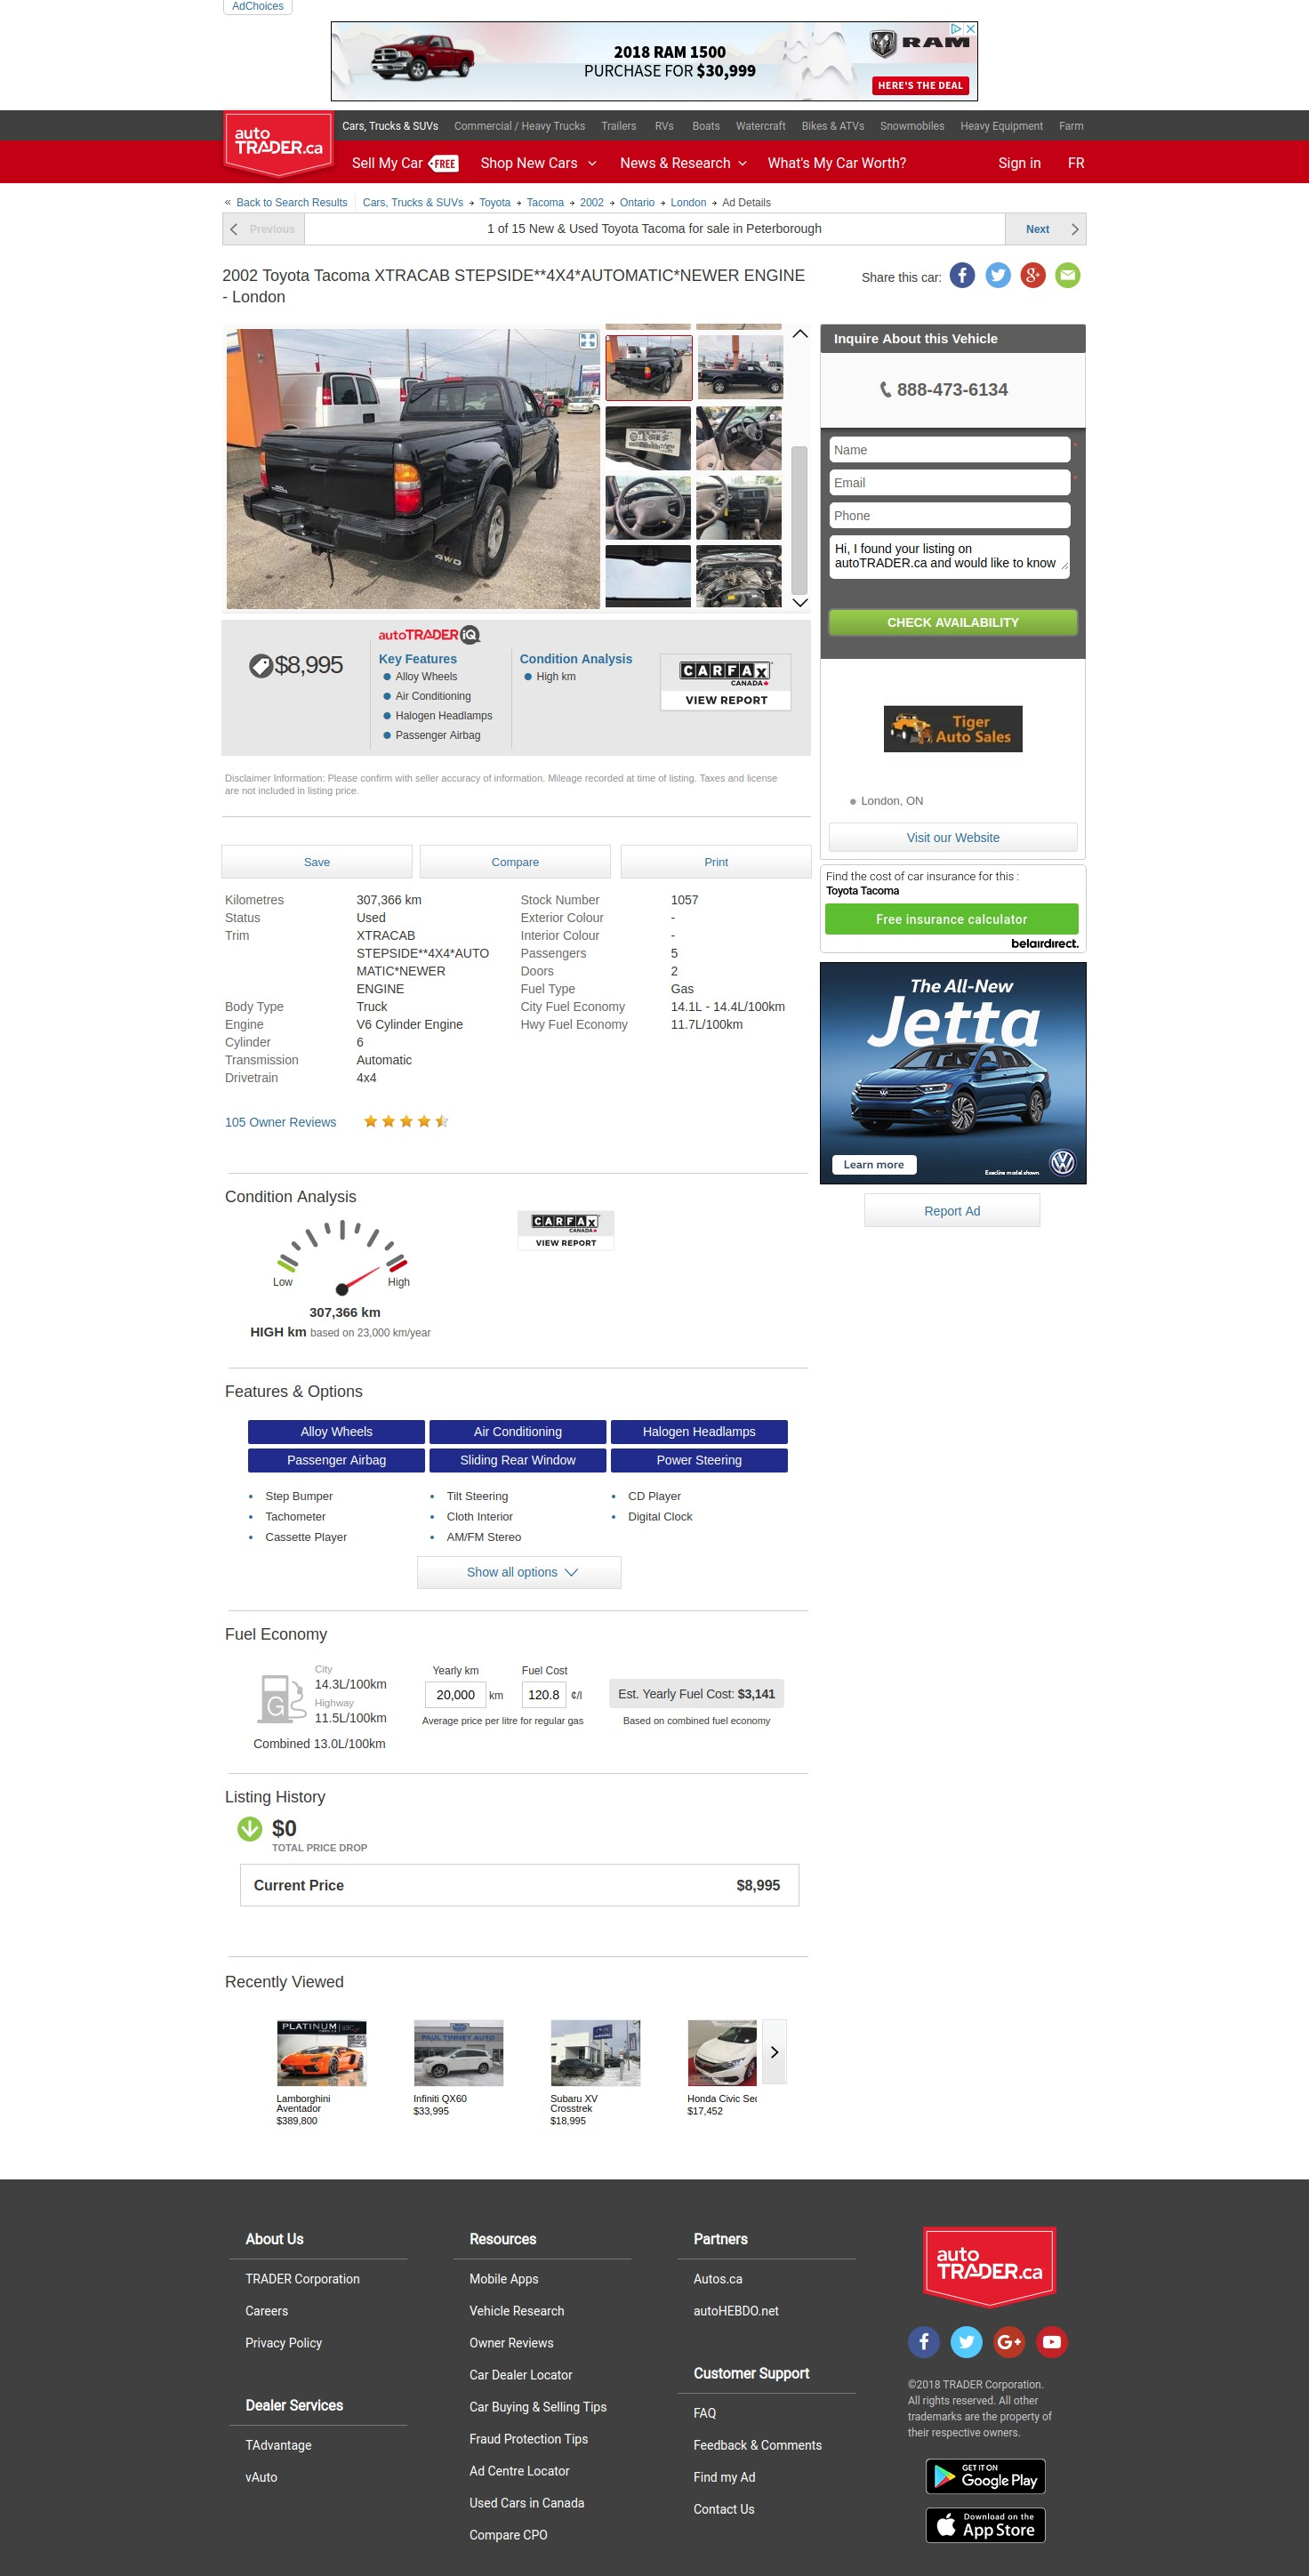car: (793, 598, 810, 611)
